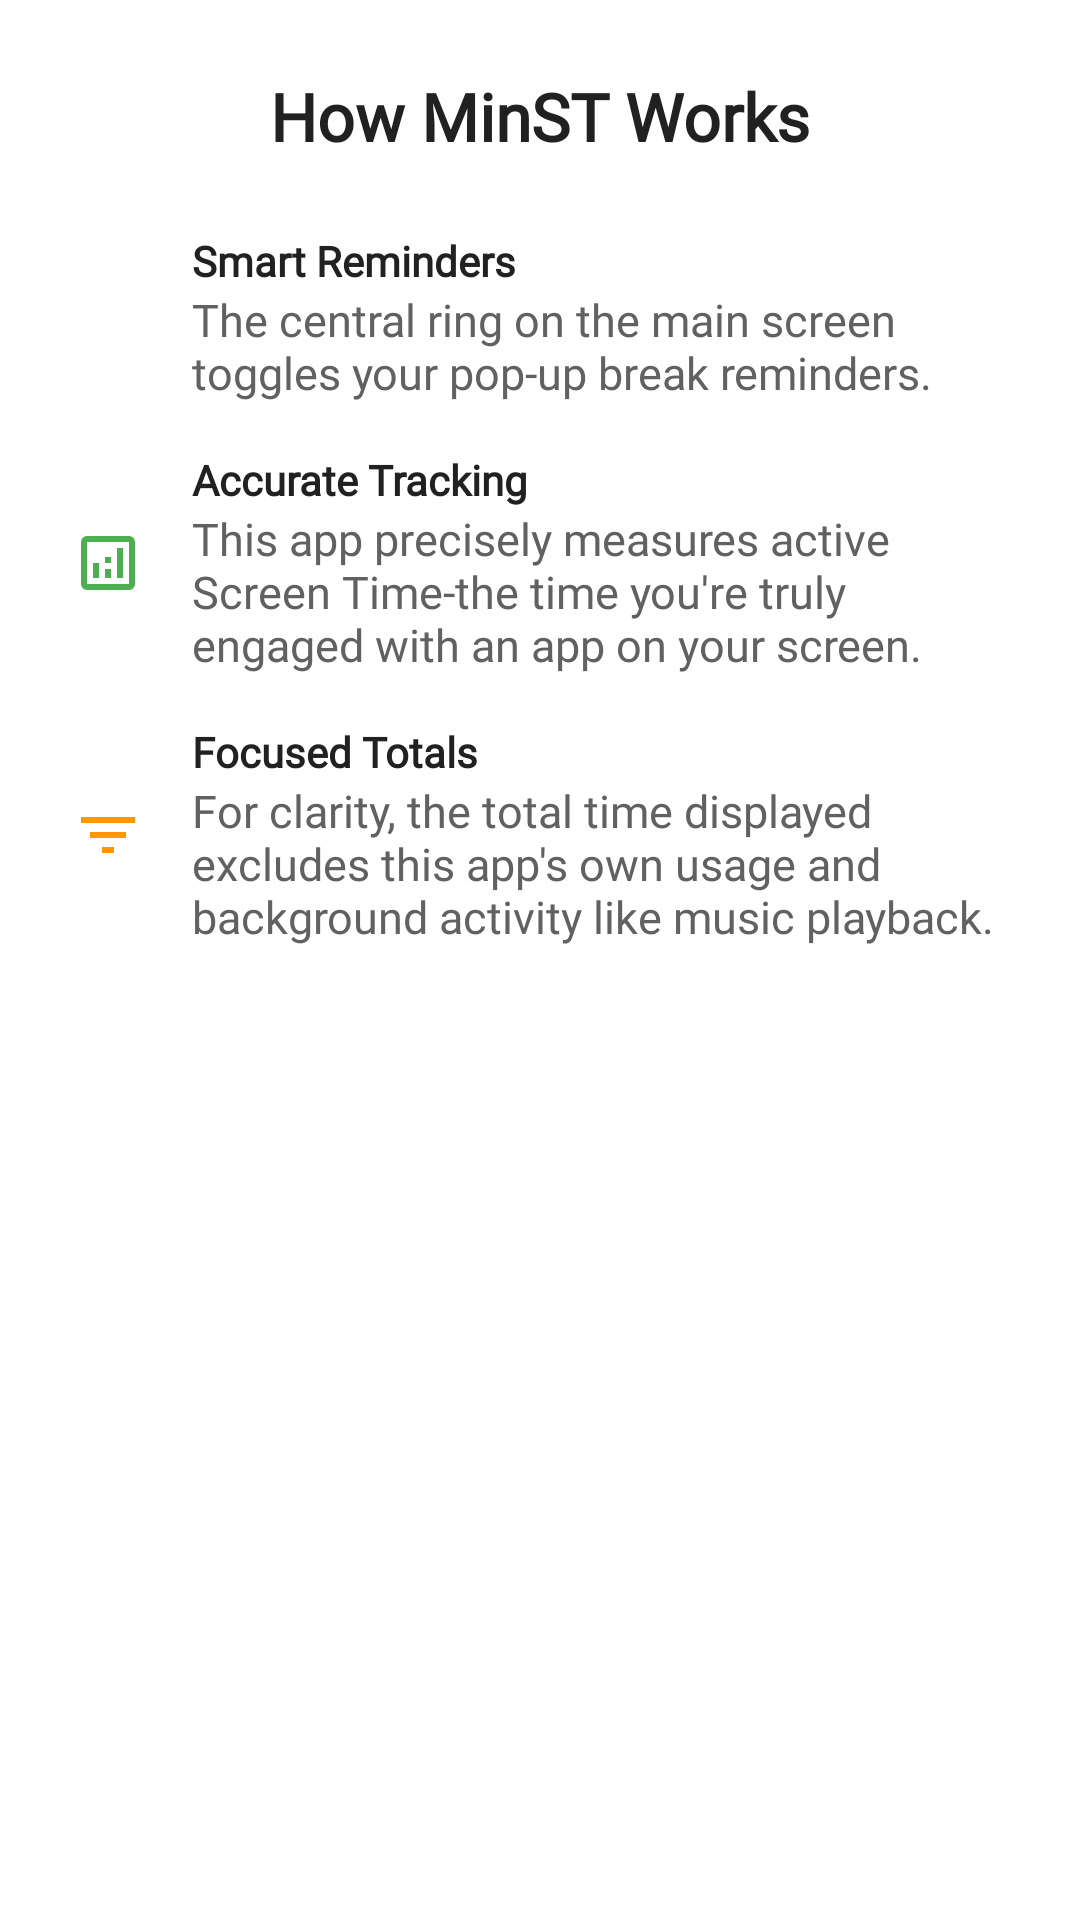

Icon click points for this 1080*1920 phone screenshot, format [x,y]:
analytics: [108,563]
filter list: [108,835]
